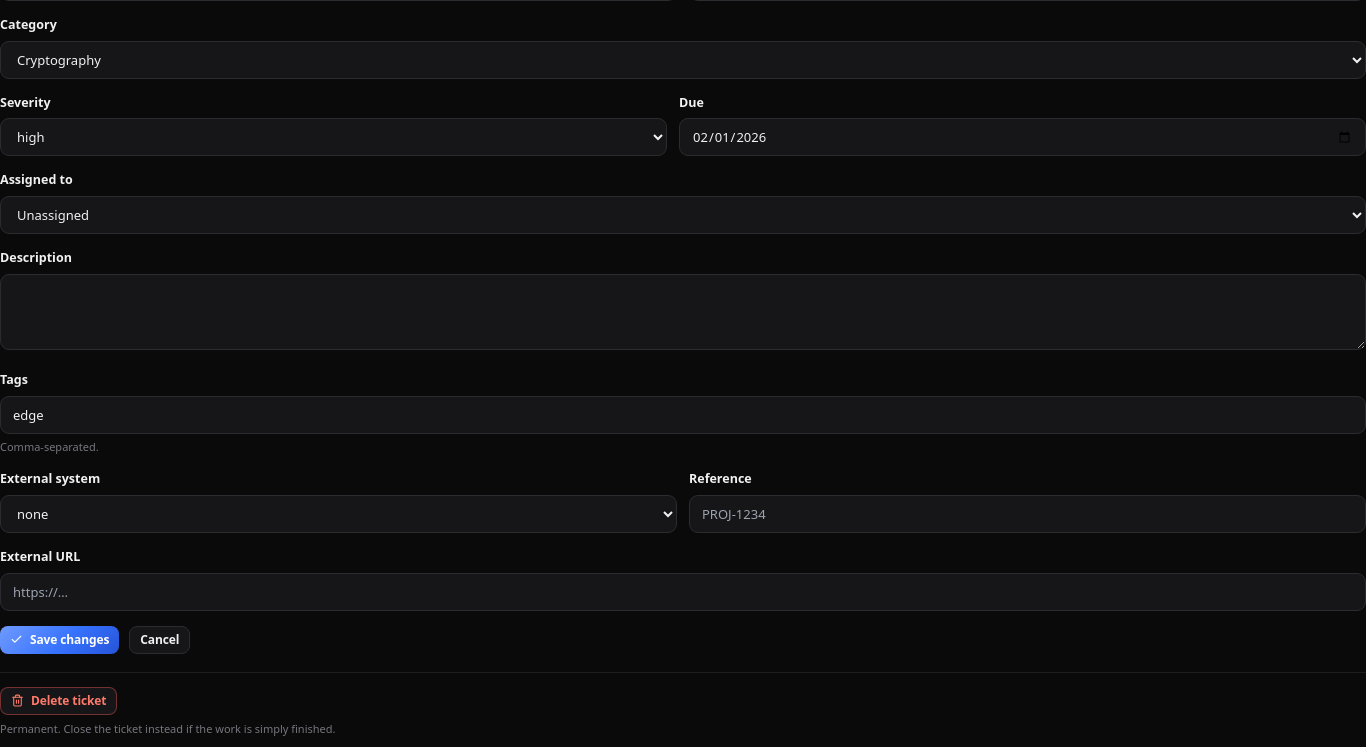
Test: deleting a ticket › tells the user the deletion is audited under their name
(page scrolled)
Click the button "Delete ticket": (59,701) [0,687,117,715]
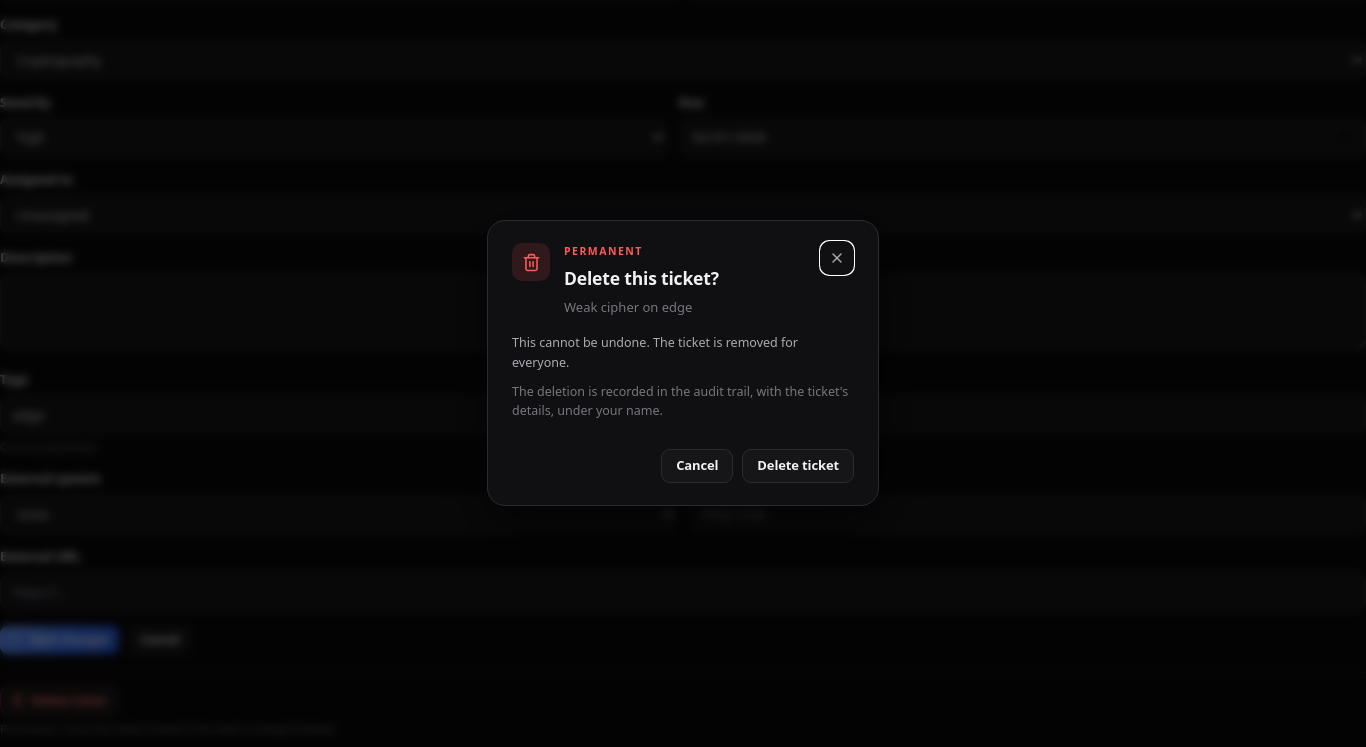
Now the text "audit trail" is shown, box [512,383,848,420]
